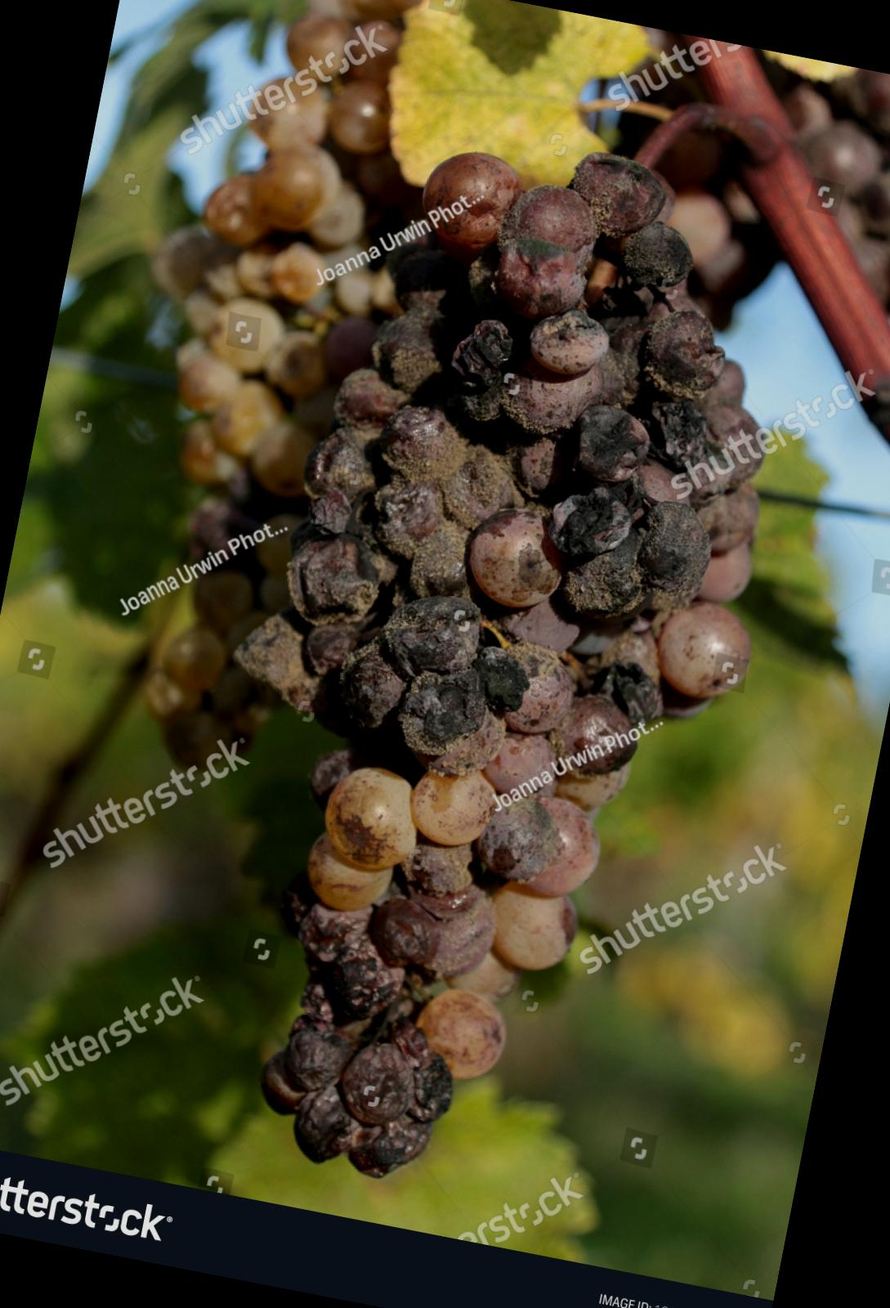Grape Rotten: (0, 0, 866, 1232), (147, 98, 841, 1231)
